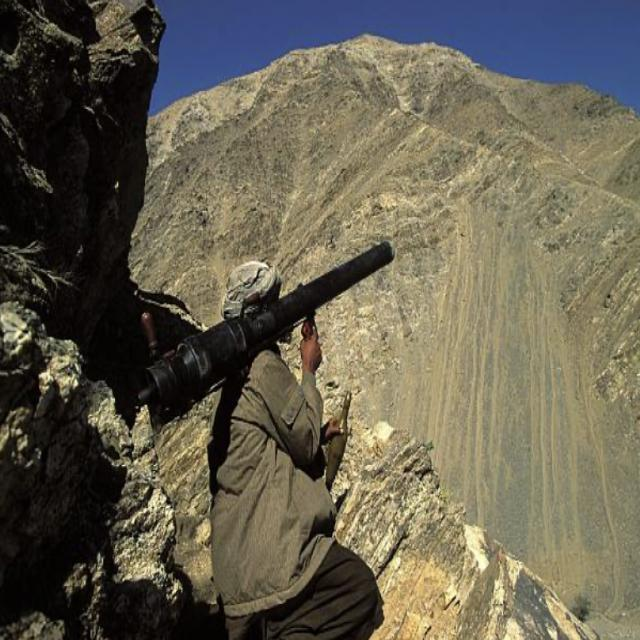bazooka: (134, 224, 407, 439)
